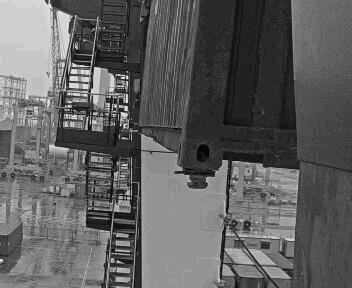twist_lock_1: (158, 164, 198, 193)
